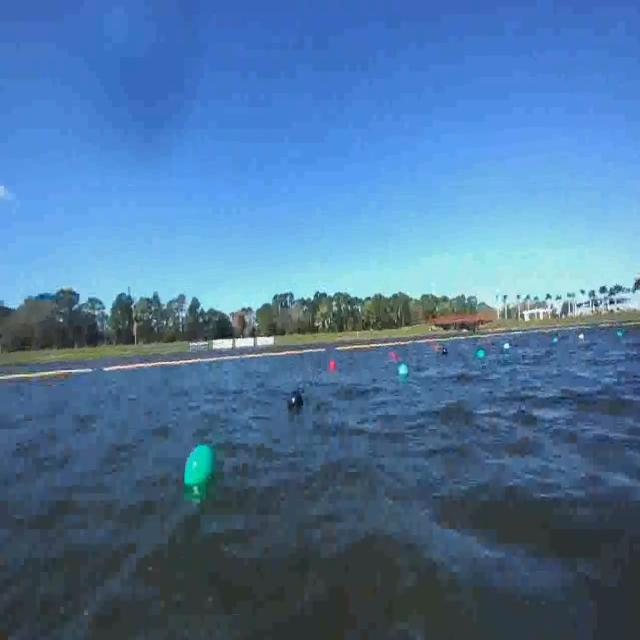black-buoy: (288, 394, 302, 409)
green-buoy: (183, 442, 217, 488), (397, 361, 408, 378), (478, 348, 487, 360)
red-buoy: (328, 360, 336, 370)
